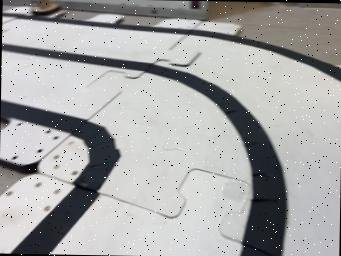street: (0, 12, 341, 256), (0, 12, 341, 256)
